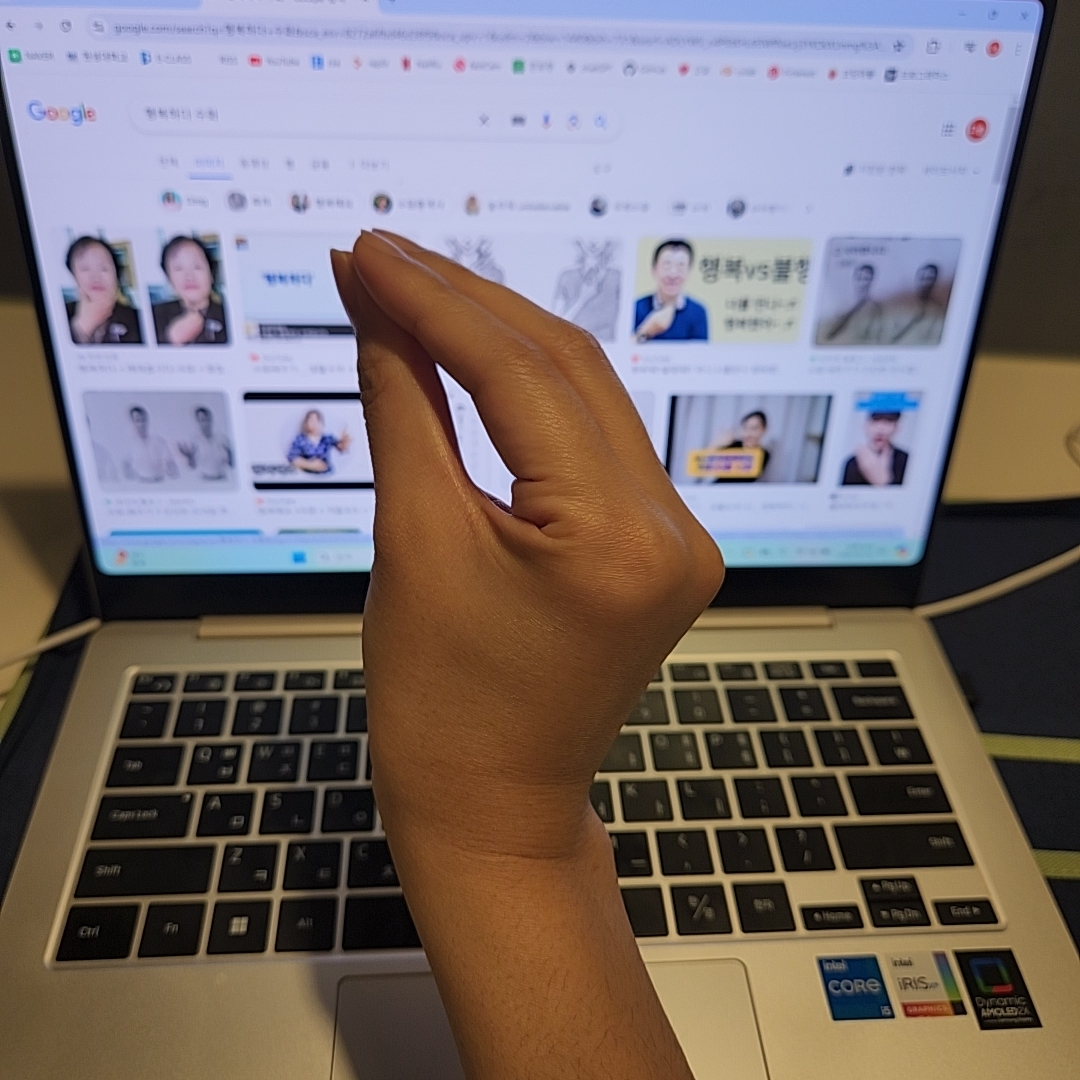happy: (332, 226, 725, 821)
